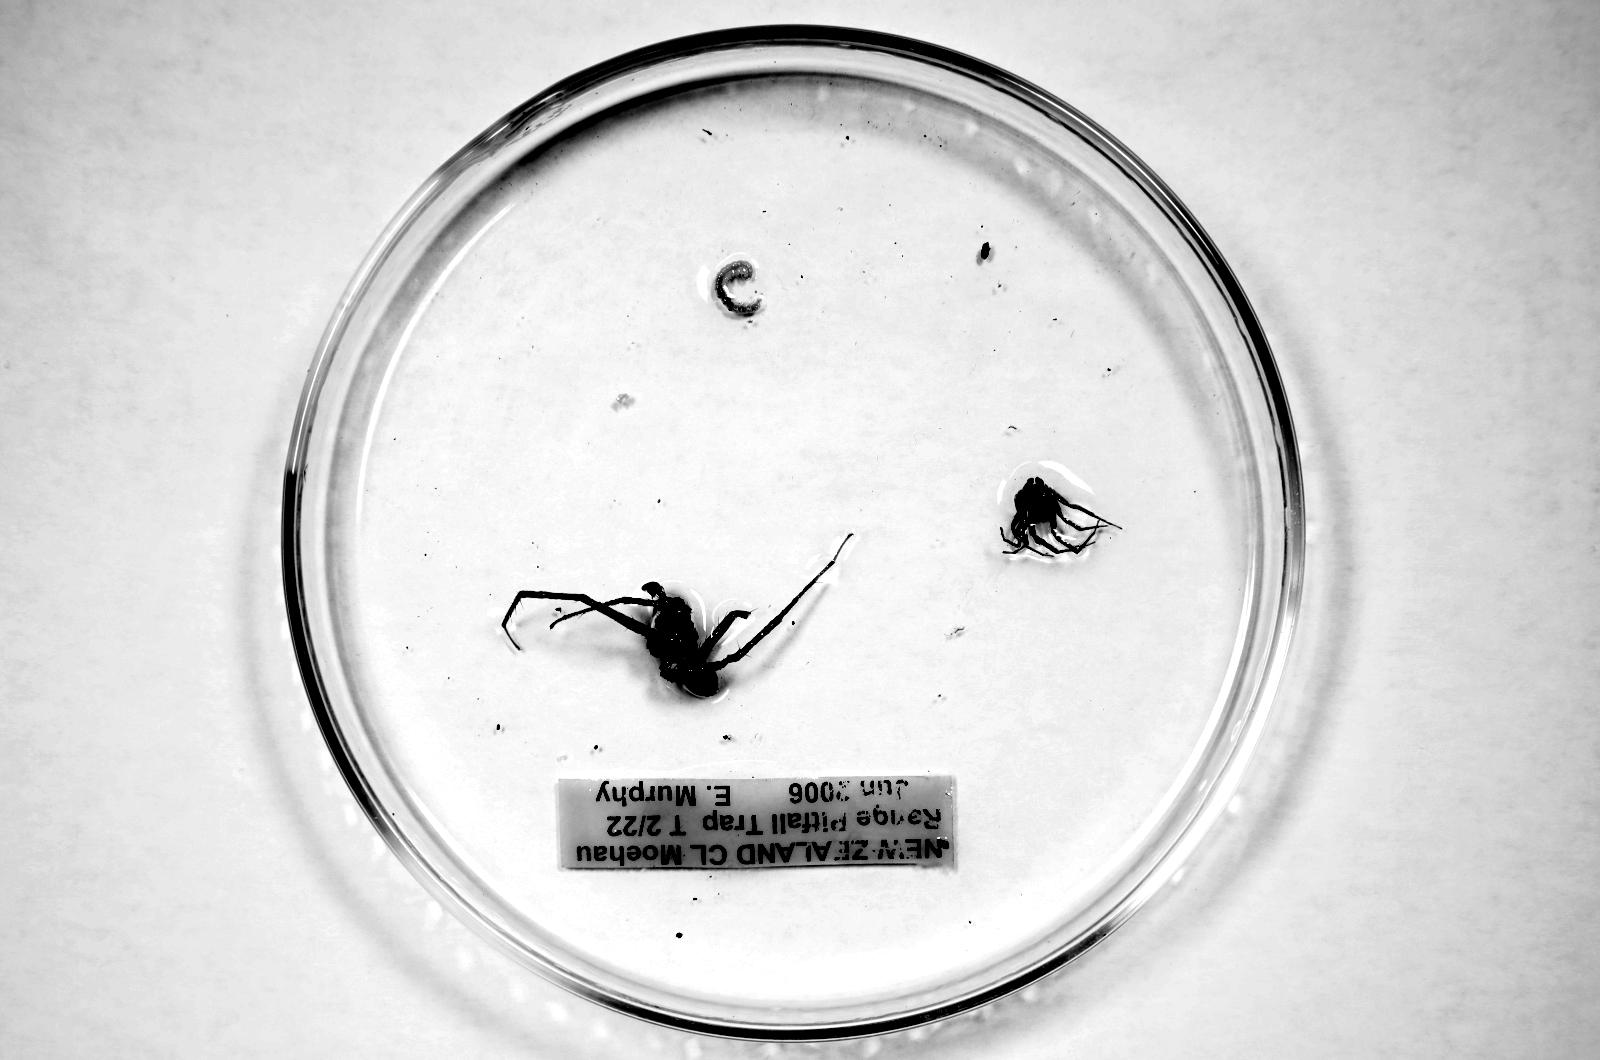araneae: (503, 535, 853, 696), (1003, 477, 1122, 557)
diplopoda: (713, 259, 762, 317)
